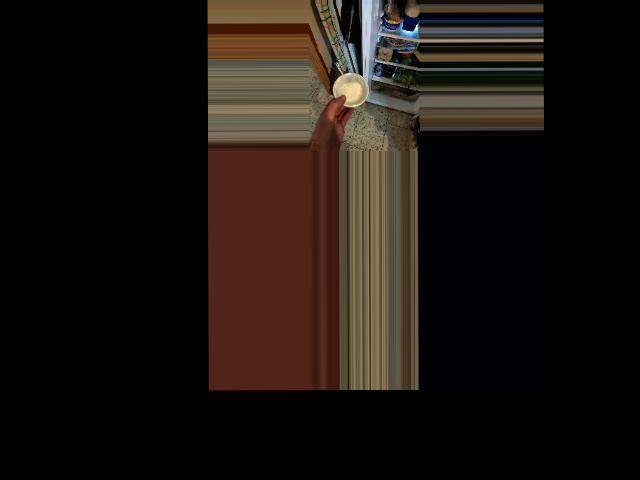cotage: (334, 72, 366, 103)
